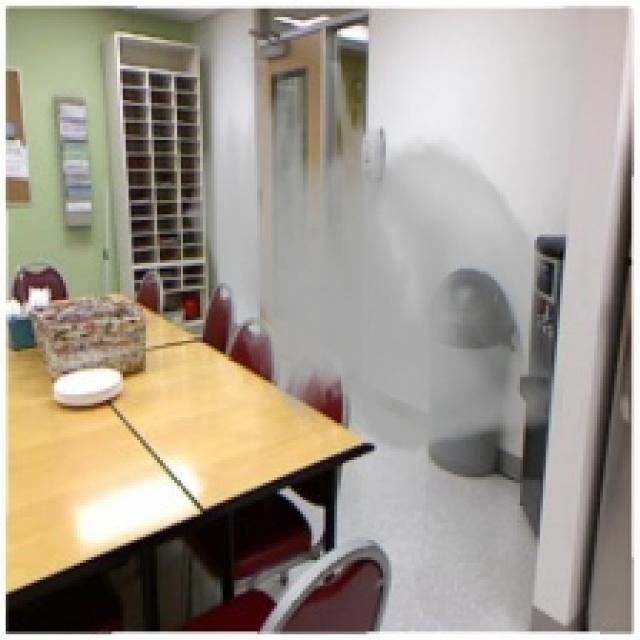smoke: (183, 57, 563, 454)
